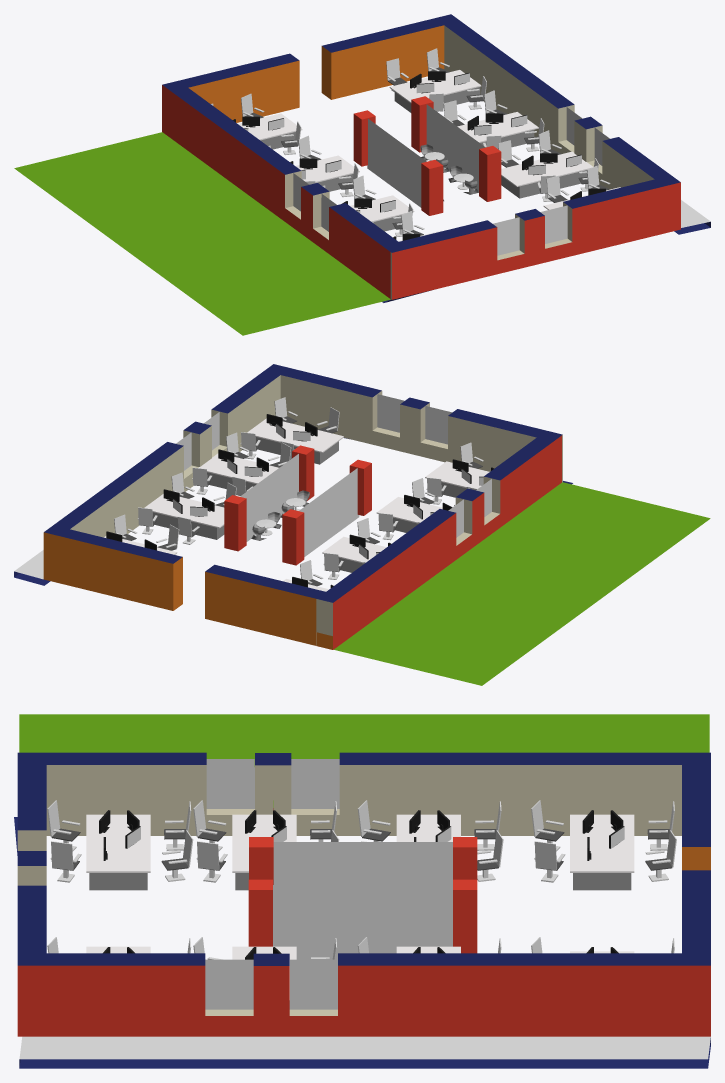
The model's file is office.glb.
The picture shows the model from 3 angles, top to bottom: view 1: azimuth 30°, elevation 25°; view 2: azimuth 150°, elevation 25°; view 3: azimuth 270°, elevation 25°; orthographic projection. The views are drawn at different scales.
Visible parts, largest first — view 1: Cube.083; view 2: Cube.083; view 3: Cube.083.
Boxes of the visible parts, x1,y1,x2,y2 form: Cube.083: (14,14,710,335); Cube.083: (14,364,710,685); Cube.083: (14,714,710,1068).
Size of the model in its own units: 8.78 by 0.9569 by 7.51.
